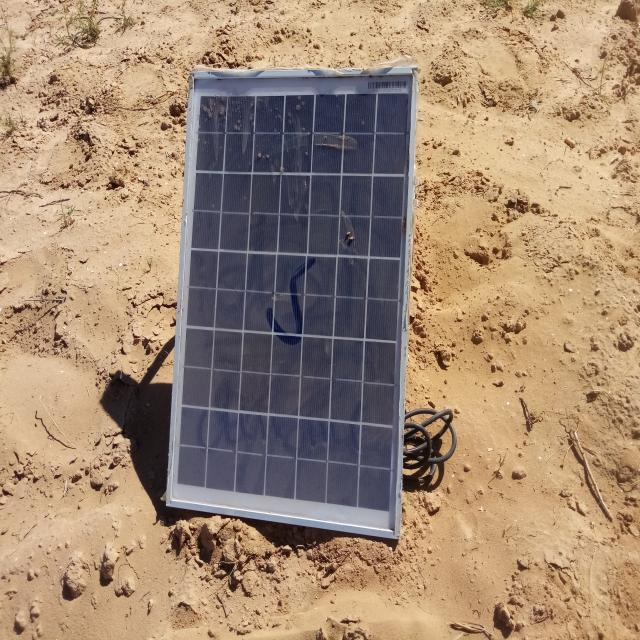faulty: (169, 72, 416, 536)
